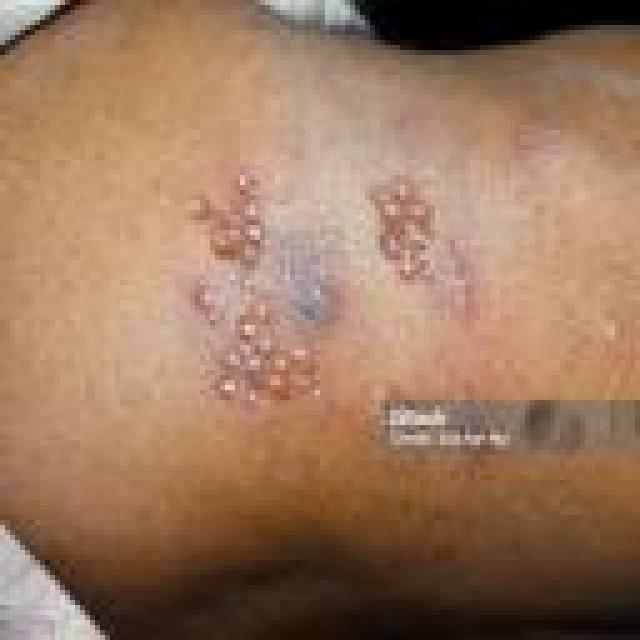Shingles: (181, 162, 325, 402), (367, 168, 448, 290)
